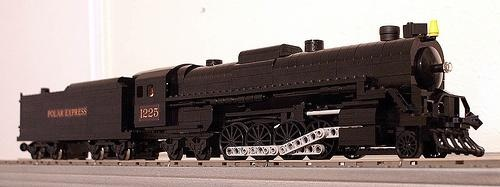train: (19, 20, 486, 162)
